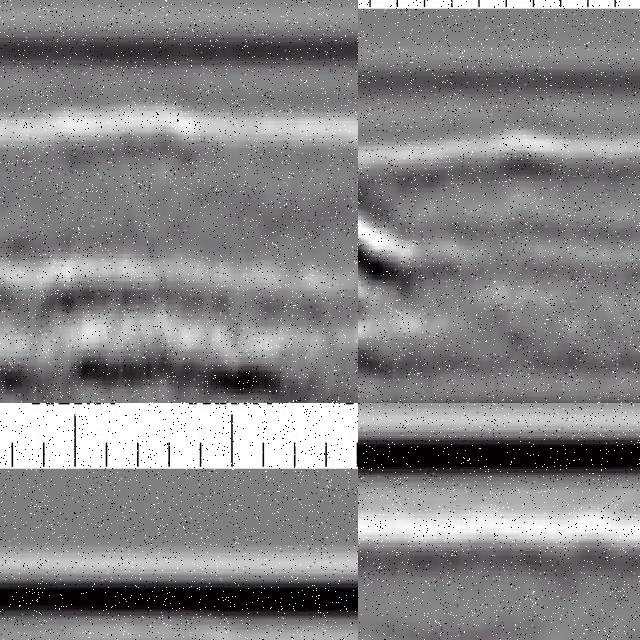crack: (359, 154, 500, 367)
